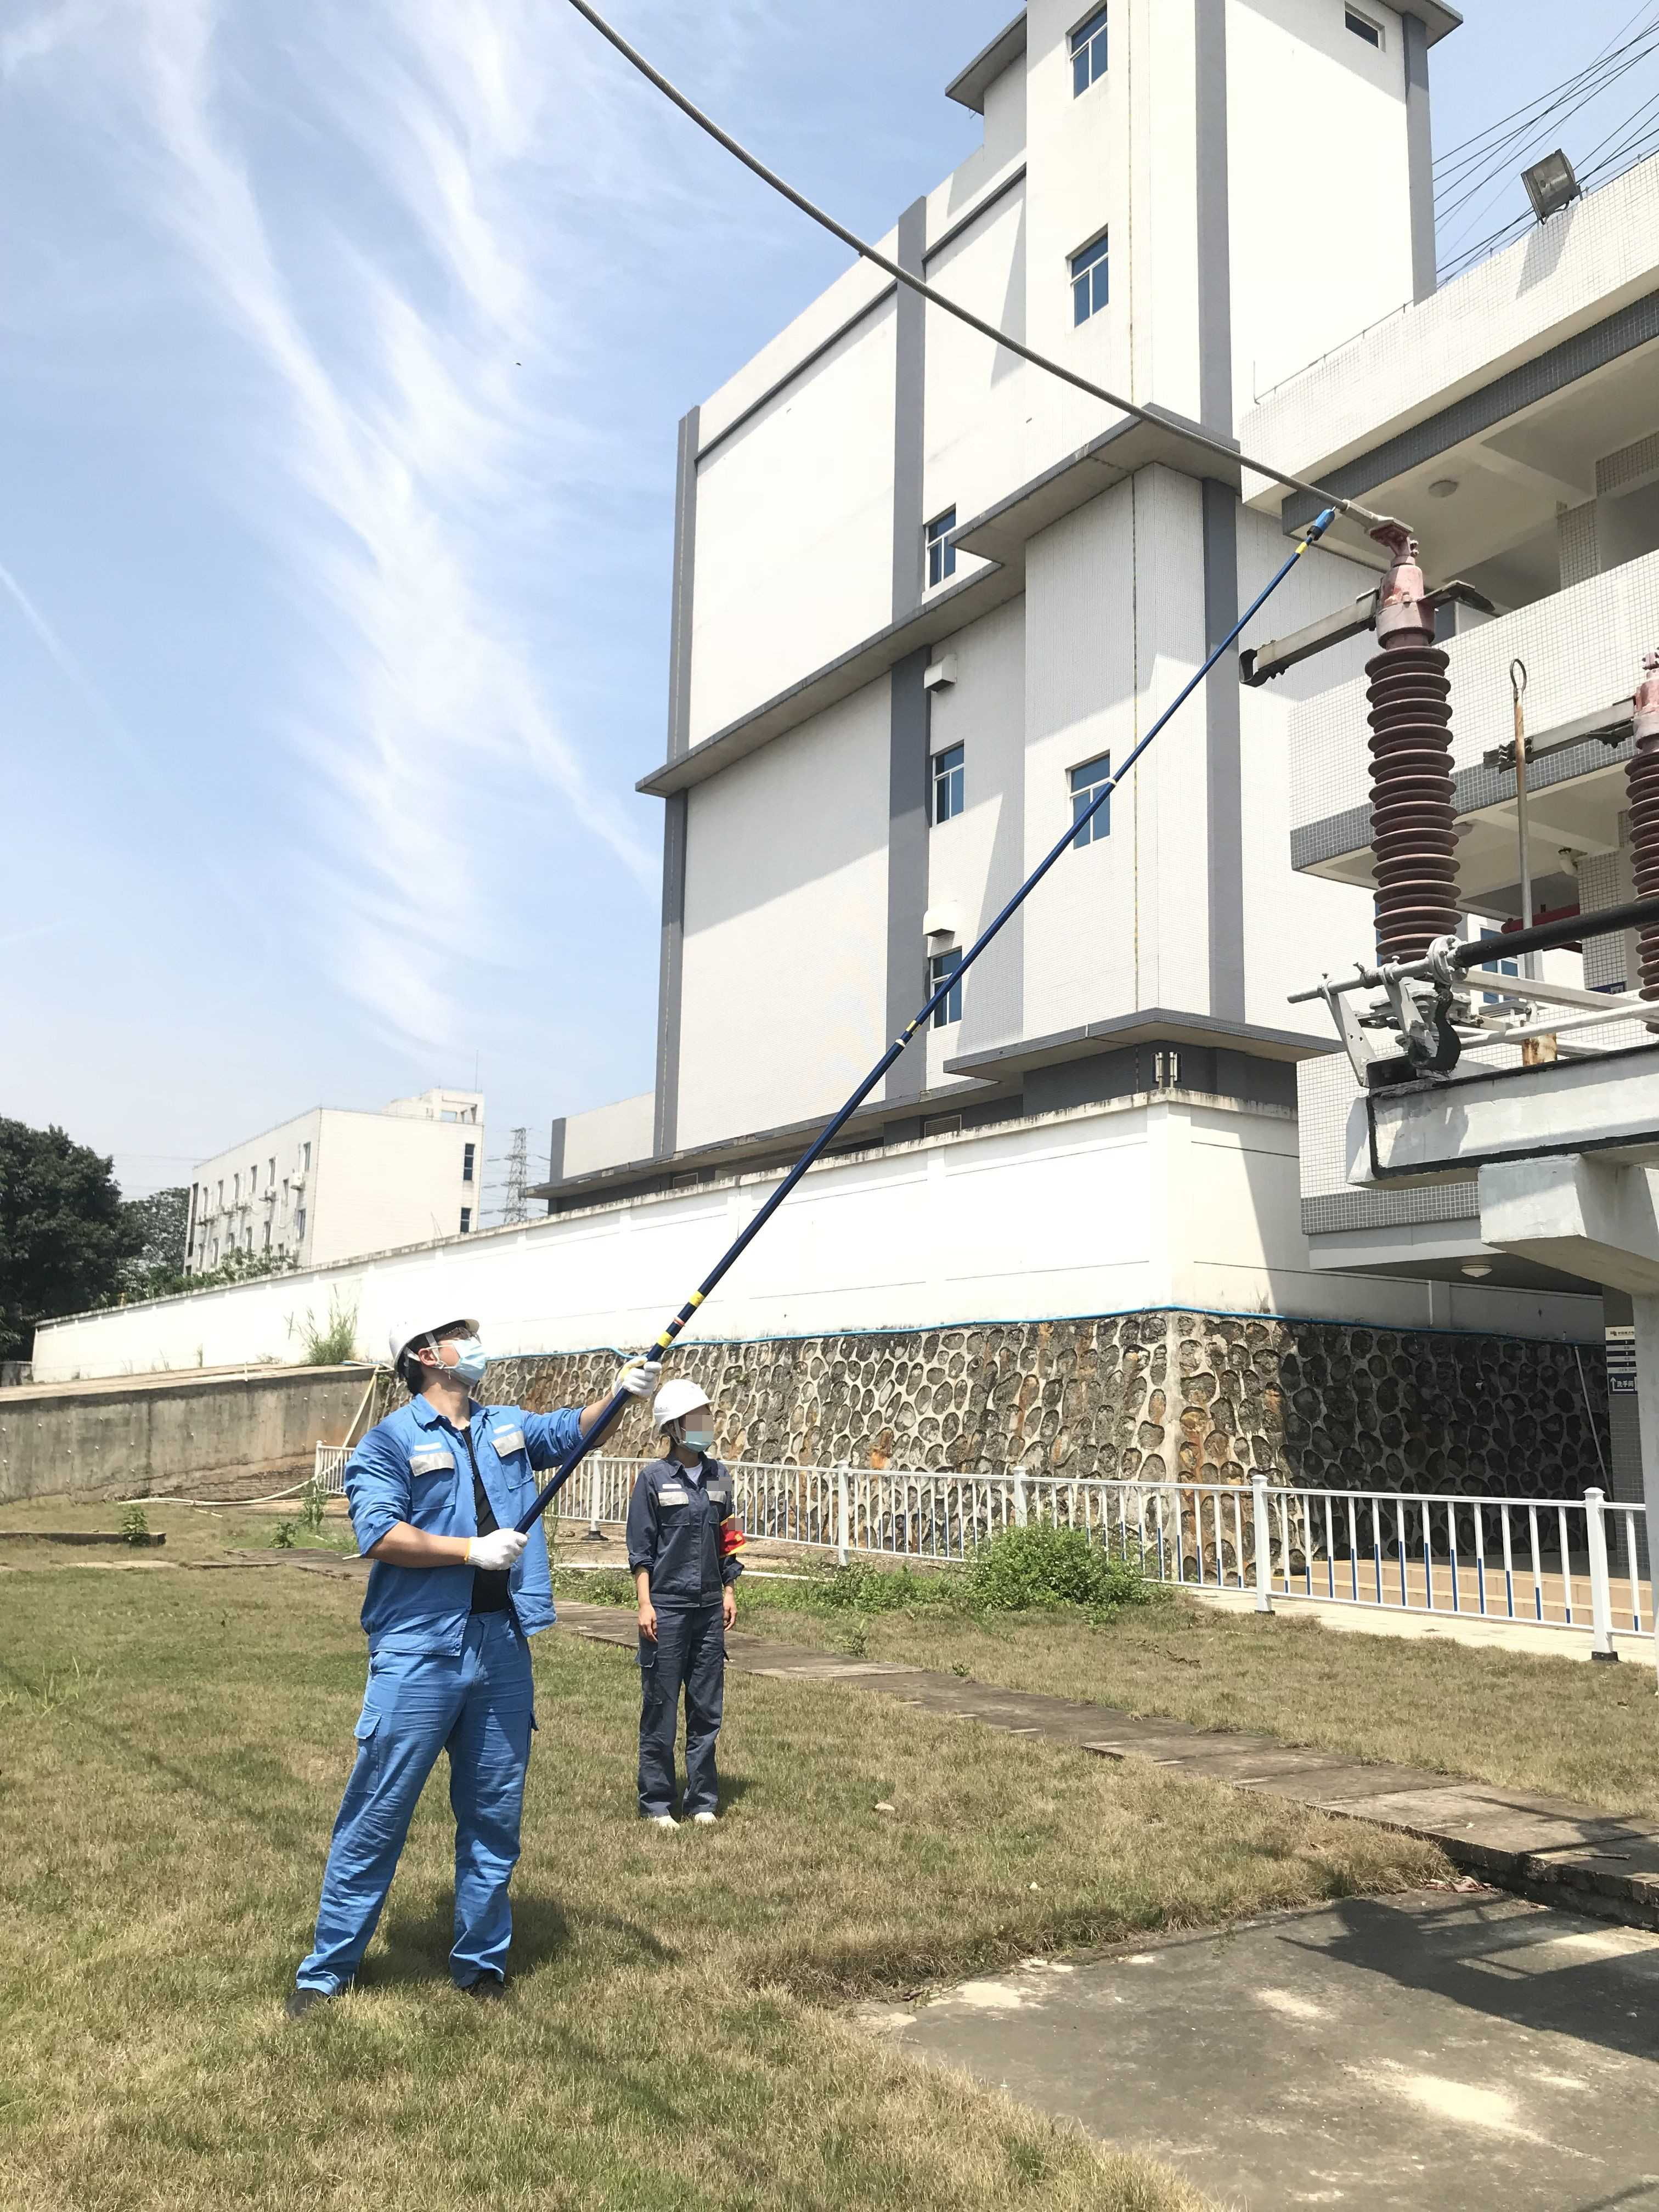downsuit: (310, 1662, 540, 1982), (638, 1632, 727, 1808)
upsuit: (345, 1390, 587, 1627), (626, 1449, 744, 1608)
wrongsuit: (423, 1414, 532, 1656)
wrongtop: (368, 1512, 486, 1580), (565, 1379, 643, 1451), (627, 1554, 657, 1637)
